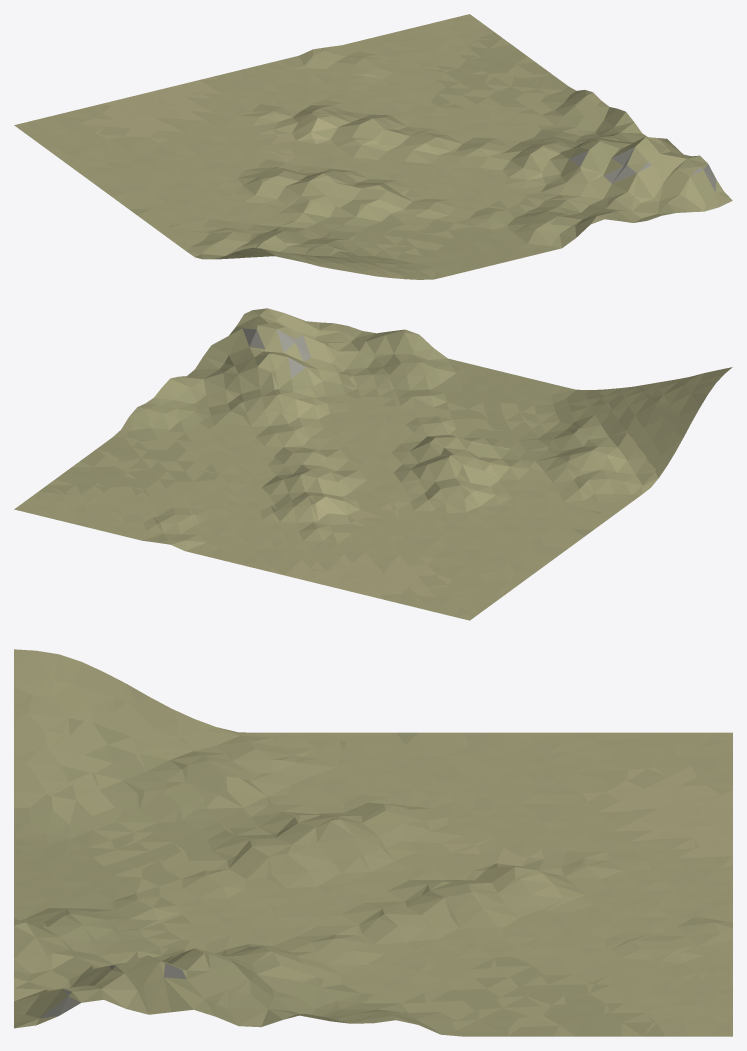
File: Ground_5_1.glb
The picture shows the model from 3 angles, top to bottom: view 1: azimuth 30°, elevation 25°; view 2: azimuth 150°, elevation 25°; view 3: azimuth 270°, elevation 25°; orthographic projection. The views are drawn at different scales.
Parts seen in each view (by area): view 1: Ground_5_1; view 2: Ground_5_1; view 3: Ground_5_1.
Boxes of the visible parts, box(x1,y1,x2,y2) form: Ground_5_1: box(14, 14, 732, 279); Ground_5_1: box(14, 308, 732, 620); Ground_5_1: box(14, 649, 732, 1036).
Size of the model in its own units: 768 by 98.33 by 768.
